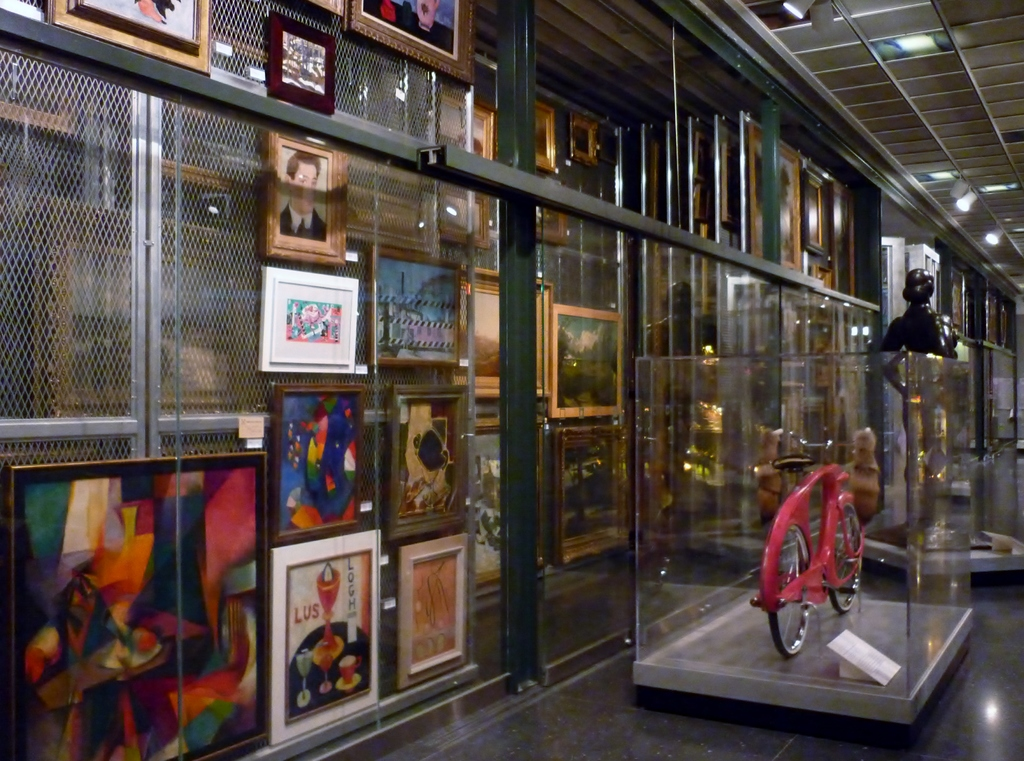bicycle: (761, 424, 884, 668)
